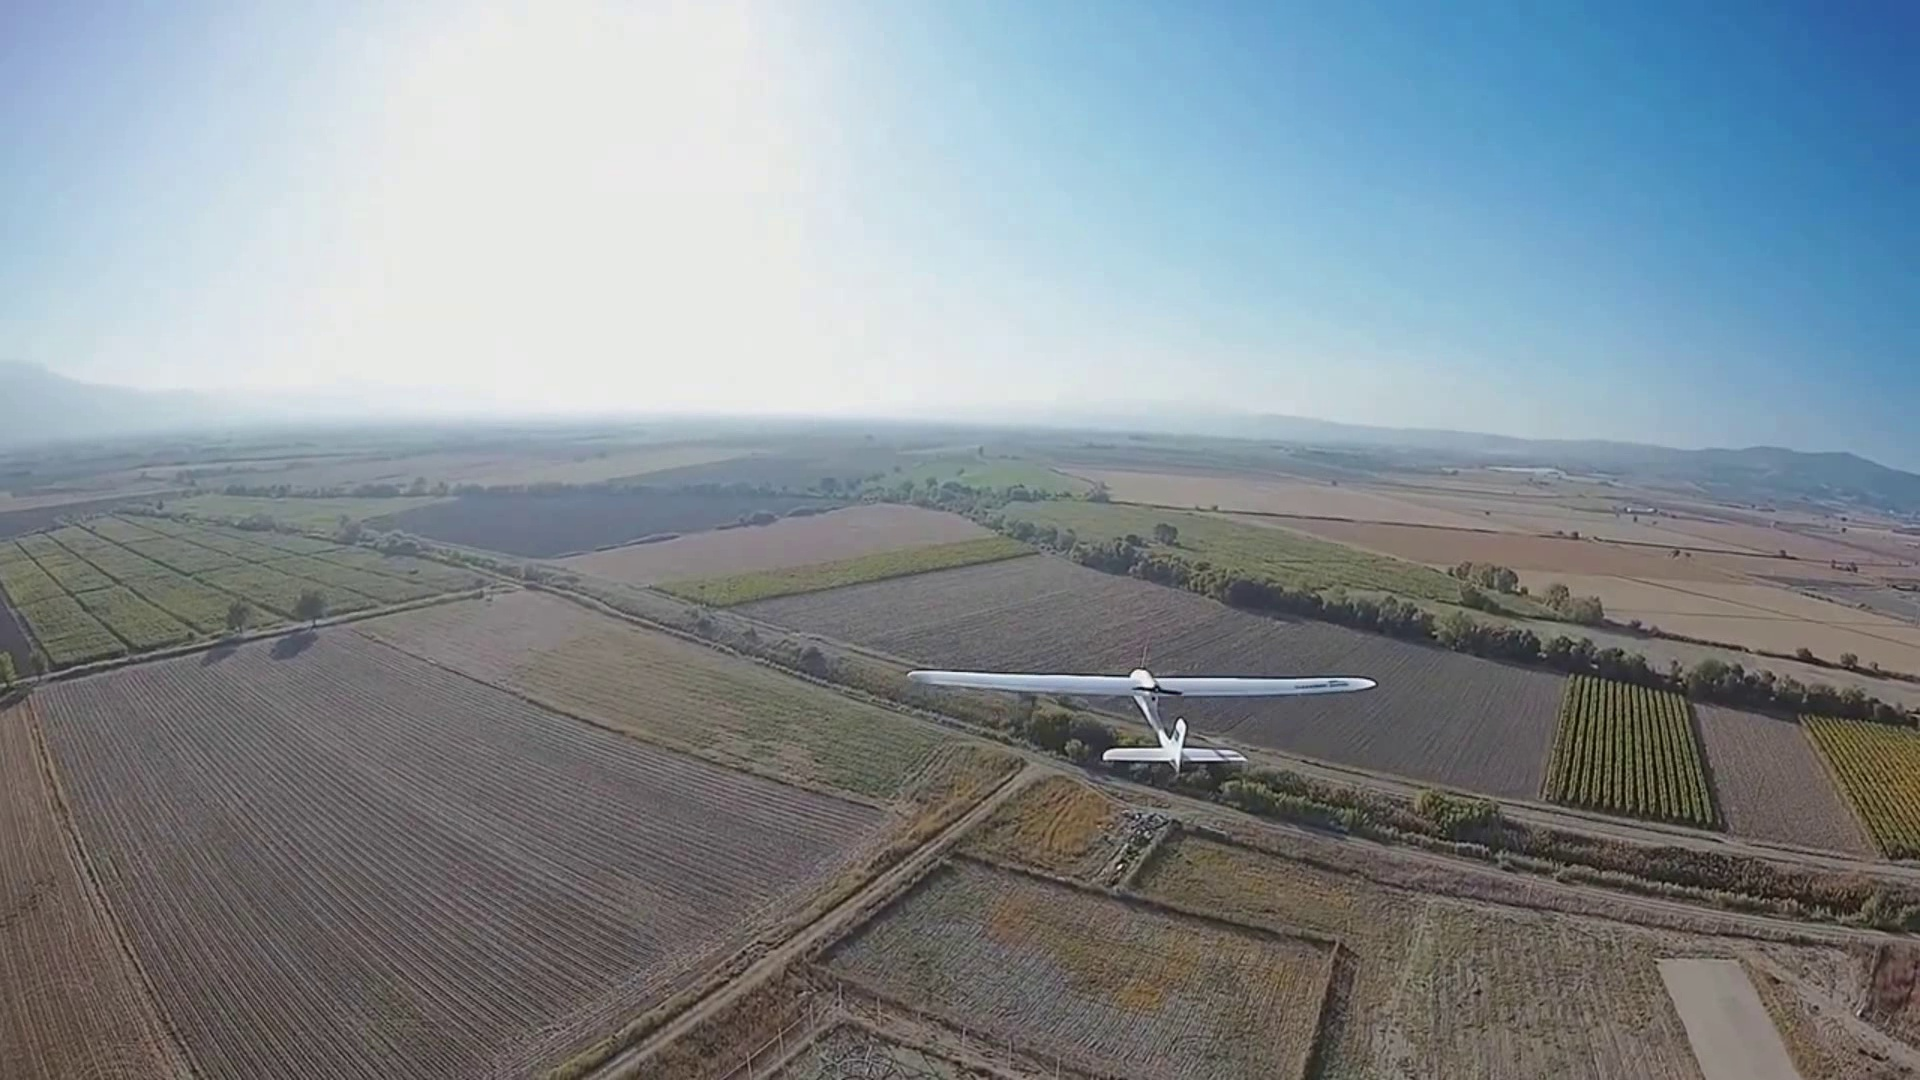airplane: (878, 659, 1377, 779)
